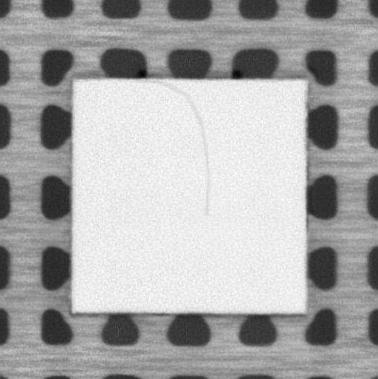DIE_CRACK: (151, 80, 212, 216)
